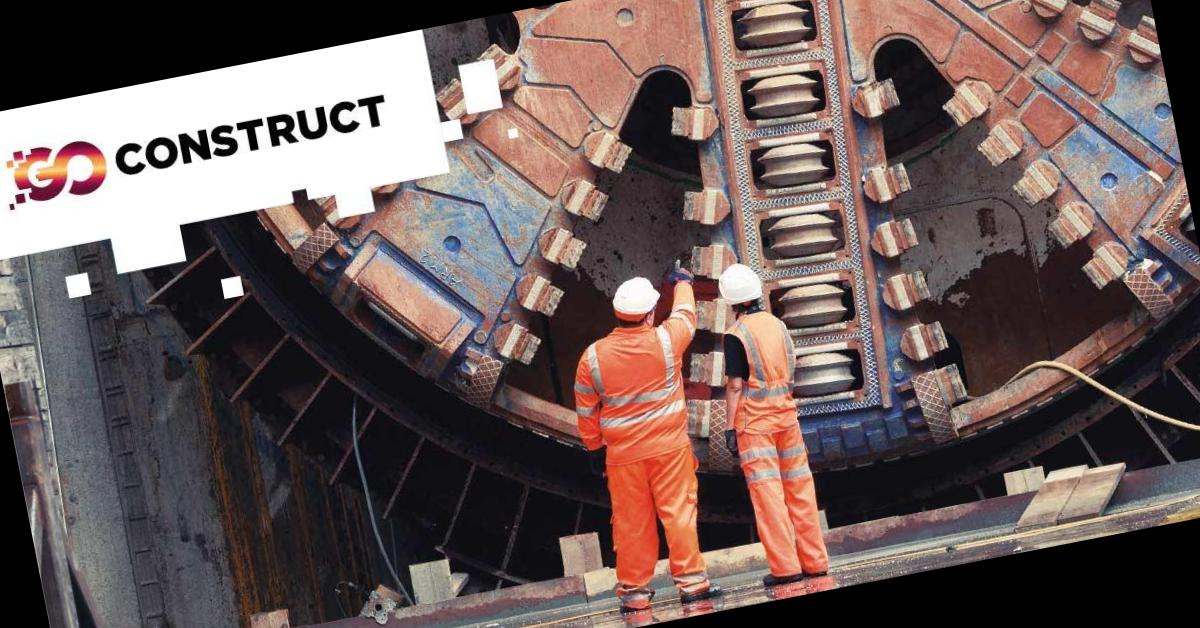Vest: (570, 312, 706, 463), (706, 302, 810, 450)
